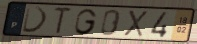0: (100, 8, 123, 37)
4: (149, 11, 172, 39)
D: (21, 5, 50, 34)
G: (73, 8, 99, 36)
T: (53, 6, 73, 35)
X: (122, 9, 149, 39)
